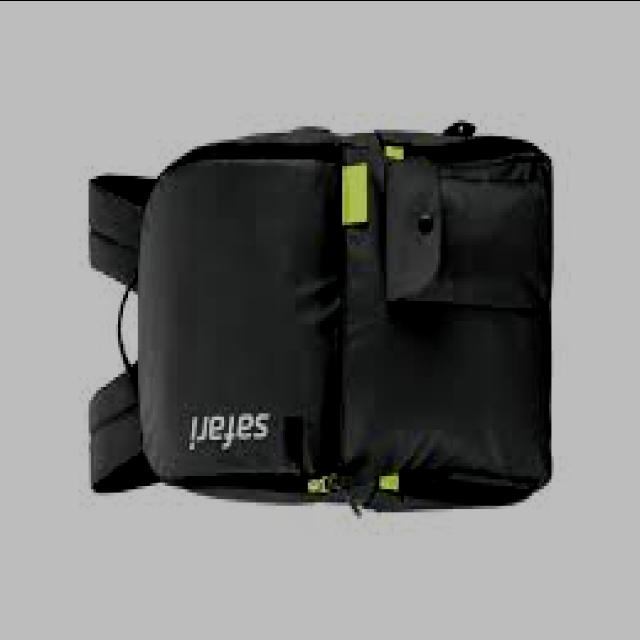backpack: (85, 124, 553, 516)
